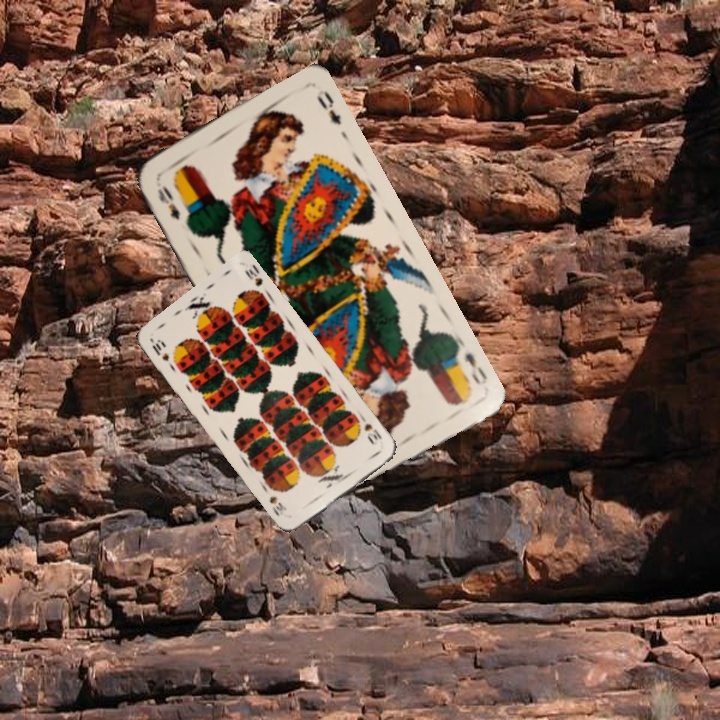EO: (449, 338, 490, 388), (153, 181, 183, 223)
S10: (357, 412, 385, 446), (148, 336, 172, 364)
